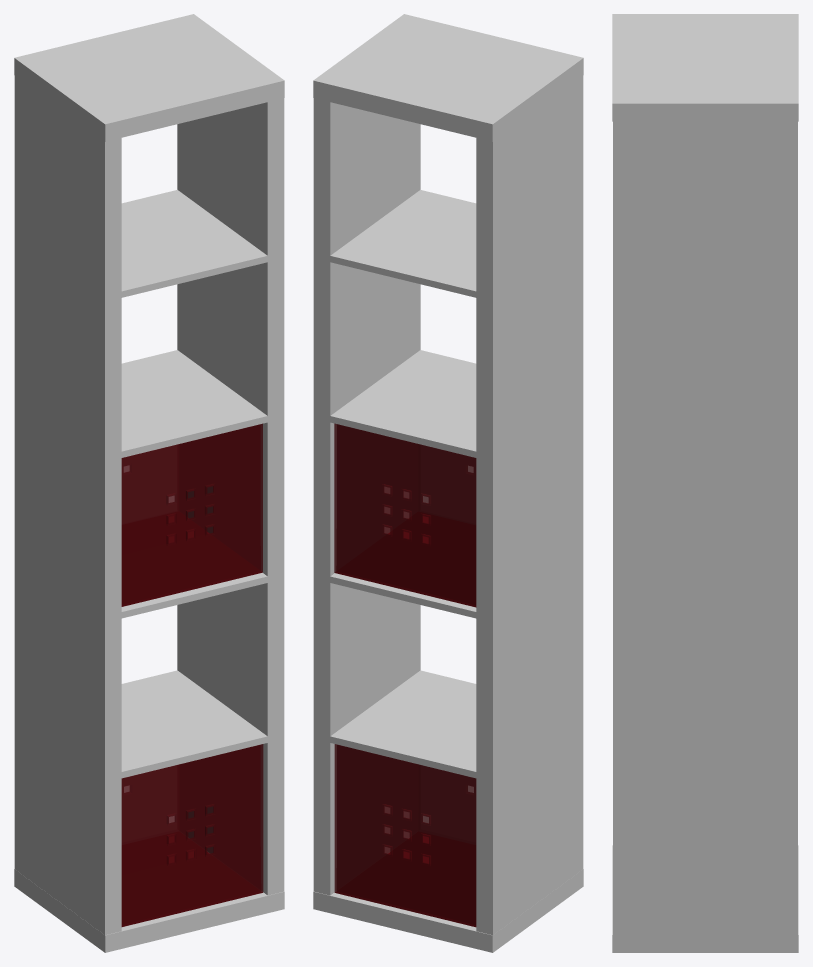
The model's file is verticalShelves.obj.
3 views of the same model, side by side, from view 1: azimuth 30°, elevation 25°; view 2: azimuth 150°, elevation 25°; view 3: azimuth 270°, elevation 25° (orthographic). The views are drawn at different scales.
Visible parts, largest first — view 1: Cube.002, Cube.003_Cube.008, Cube.015_Cube.022, Cube.016_Cube.003, Cube.001, Cube.007, Cube.006, Cube.004, Cube, Cube.005; view 2: Cube.002, Cube.003_Cube.008, Cube.016_Cube.003, Cube.015_Cube.022, Cube.001, Cube.007, Cube.006, Cube.004, Cube, Cube.005; view 3: Cube.003_Cube.008, Cube.001, Cube.
Part boxes in pixels (left/top/right/bottom): Cube.002: left=14, top=76, right=121, bottom=935; Cube.003_Cube.008: left=177, top=98, right=284, bottom=895; Cube.015_Cube.022: left=121, top=744, right=263, bottom=926; Cube.016_Cube.003: left=121, top=423, right=262, bottom=606; Cube.001: left=14, top=14, right=284, bottom=141; Cube.007: left=121, top=190, right=267, bottom=297; Cube.006: left=121, top=350, right=267, bottom=457; Cube.004: left=121, top=670, right=267, bottom=778; Cube: left=14, top=869, right=284, bottom=952; Cube.005: left=121, top=572, right=267, bottom=618; Cube.002: left=476, top=76, right=583, bottom=935; Cube.003_Cube.008: left=313, top=98, right=420, bottom=895; Cube.016_Cube.003: left=334, top=423, right=476, bottom=607; Cube.015_Cube.022: left=334, top=744, right=476, bottom=927; Cube.001: left=313, top=14, right=583, bottom=141; Cube.007: left=330, top=190, right=476, bottom=297; Cube.006: left=330, top=350, right=476, bottom=457; Cube.004: left=330, top=670, right=476, bottom=778; Cube: left=313, top=869, right=583, bottom=952; Cube.005: left=330, top=573, right=476, bottom=618; Cube.003_Cube.008: left=613, top=121, right=797, bottom=934; Cube.001: left=612, top=14, right=798, bottom=121; Cube: left=612, top=845, right=798, bottom=952.
Bounding box in the file's own units: 44.48 × 196 × 39.01.
